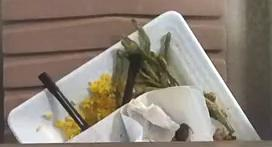green_beans: (112, 20, 179, 107)
rice: (80, 74, 116, 125), (56, 116, 81, 139)
